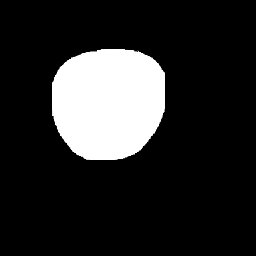mass: (42, 52, 170, 174)
